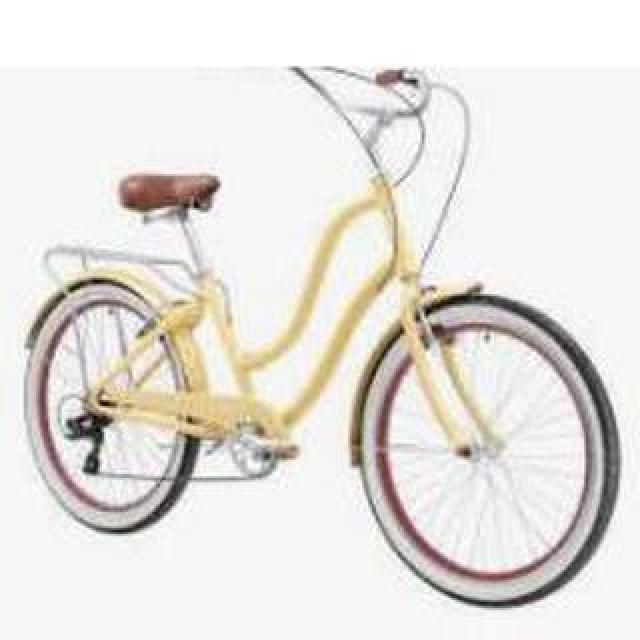Person: (18, 64, 622, 606)
